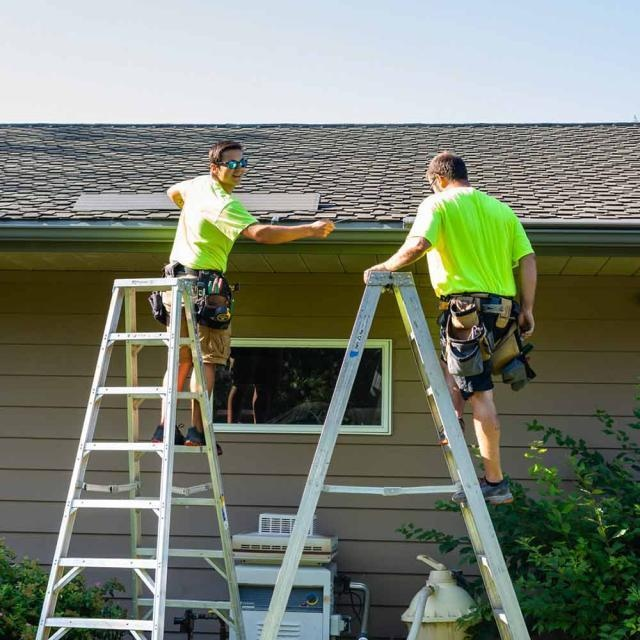Arnes_seguridad: (436, 291, 531, 395), (152, 262, 237, 330)
